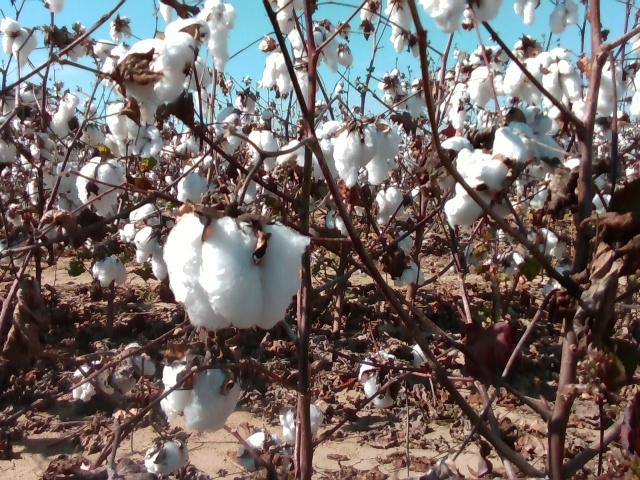cotton_ready: (163, 211, 310, 328), (443, 127, 529, 232), (160, 358, 244, 431), (321, 120, 401, 185), (72, 343, 156, 402), (532, 156, 604, 210), (359, 348, 423, 407), (149, 31, 197, 106), (506, 108, 567, 163), (76, 156, 125, 217), (417, 0, 504, 34), (505, 228, 566, 275), (197, 0, 237, 71), (125, 38, 165, 104), (539, 47, 581, 108), (469, 48, 510, 107), (237, 432, 290, 473), (280, 400, 324, 446), (134, 226, 168, 281), (503, 58, 542, 104), (278, 140, 324, 179), (144, 437, 191, 475), (99, 42, 132, 94), (163, 16, 210, 52), (123, 200, 162, 242), (596, 60, 625, 114), (107, 103, 145, 142), (3, 27, 37, 68), (259, 54, 293, 94), (51, 91, 79, 137), (92, 254, 128, 288), (247, 131, 278, 170), (313, 25, 338, 71), (54, 161, 81, 203), (376, 185, 405, 223), (218, 106, 246, 143), (130, 127, 163, 158), (278, 0, 307, 35), (544, 264, 575, 293), (177, 172, 205, 203), (394, 262, 426, 288), (19, 86, 49, 108), (0, 89, 19, 121), (325, 208, 349, 233)
